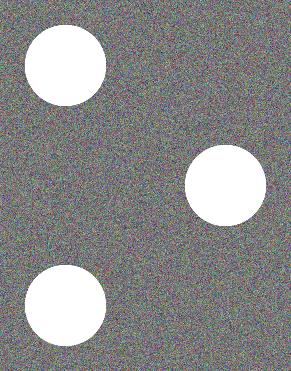O: (18, 19, 273, 353)
